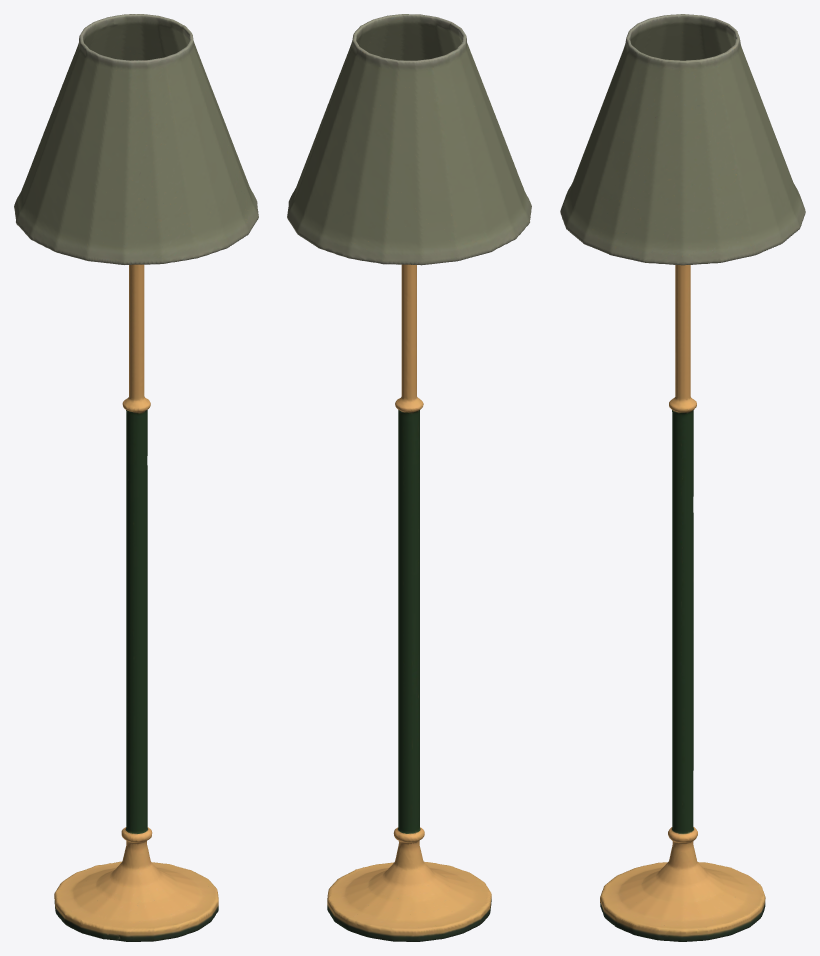
The model's file is standlight1.glb.
3 views of the same model, side by side, from view 1: azimuth 30°, elevation 25°; view 2: azimuth 150°, elevation 25°; view 3: azimuth 270°, elevation 25° (orthographic).
Visible parts, largest first — view 1: world; view 2: world; view 3: world.
Part boxes in pixels (x1,y1,x2,y2): world: (14,14,258,941); world: (287,14,531,941); world: (560,14,805,941).
Bounding box in the file's own units: 0.2566 × 1 × 0.2562.
1 material, 1 textured.
